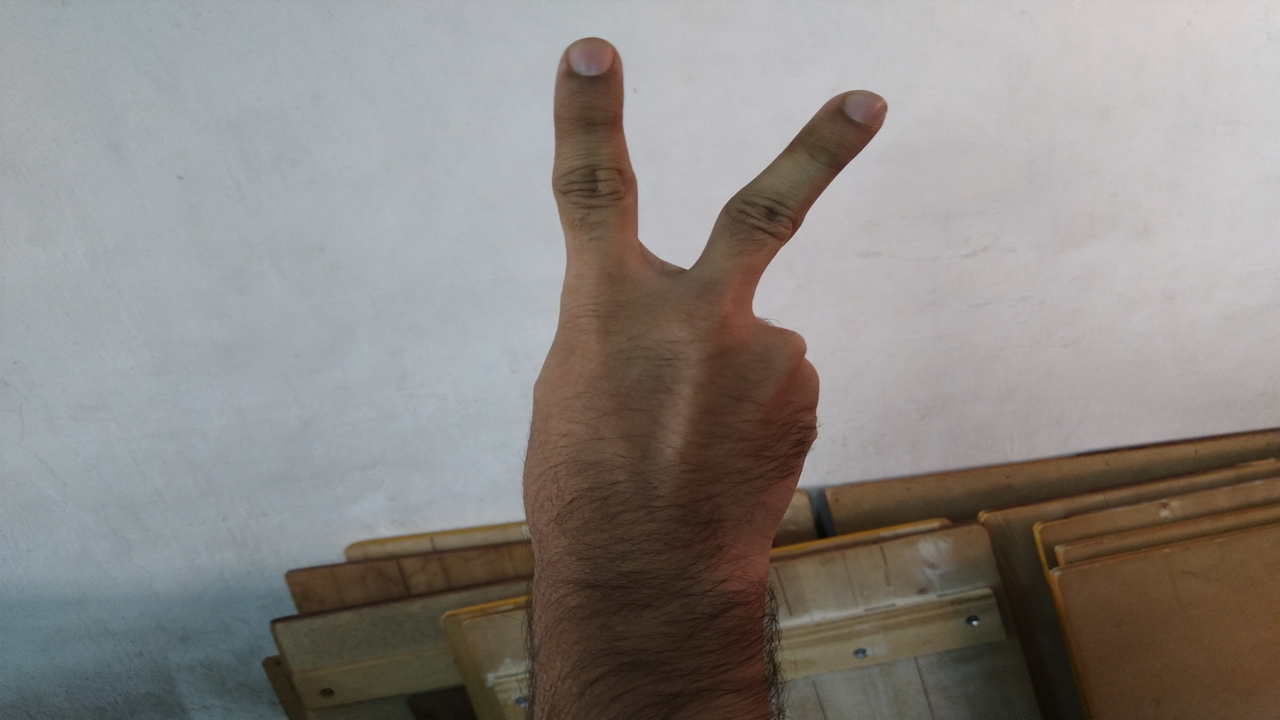fingertip: (560, 32, 622, 92), (830, 86, 904, 136)
